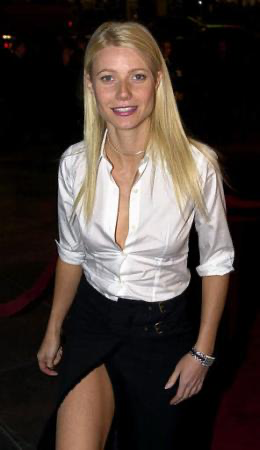Face: (90, 48, 153, 126)
